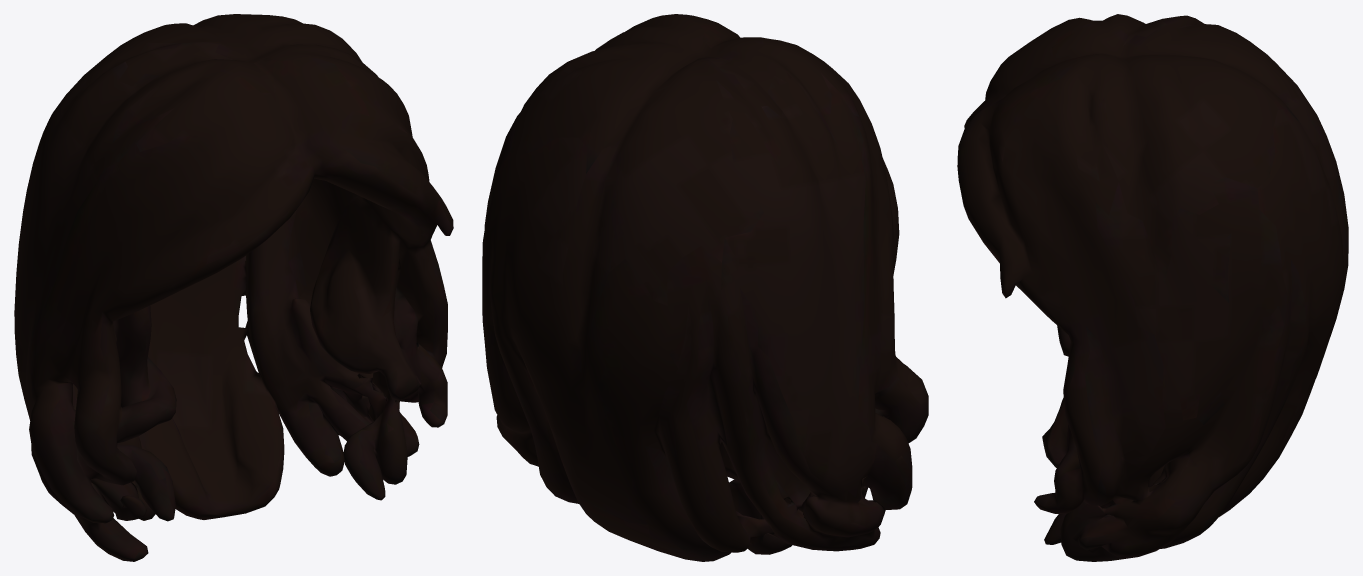
File: Hirono Girl Hair3.glb
The picture shows the model from 3 angles, left to right: view 1: azimuth 30°, elevation 25°; view 2: azimuth 150°, elevation 25°; view 3: azimuth 270°, elevation 25°; orthographic projection. The views are drawn at different scales.
Parts seen in each view (by area): view 1: hair.002; view 2: hair.002; view 3: hair.002.
Boxes of the visible parts, box(x1,y1,x2,y2) form: hair.002: box(14, 14, 453, 561); hair.002: box(482, 14, 928, 561); hair.002: box(957, 14, 1348, 561).
Bounding box in the file's own units: 0.3896 × 0.4552 × 0.3327.
1 material, 1 textured.
